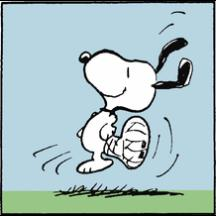snoopy: (74, 36, 193, 174)
